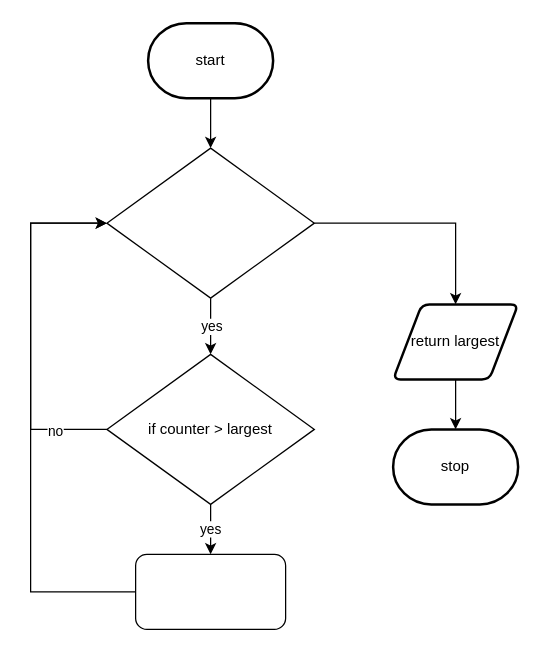
Image size: 541x651. Some labels were removed from this diagram. The centre of each missing label's shape, as x and y in pixels:
"for counter=0 counter<number_array.size counter ++" goes at [210,222].
"largest = counter" goes at [210,591].
